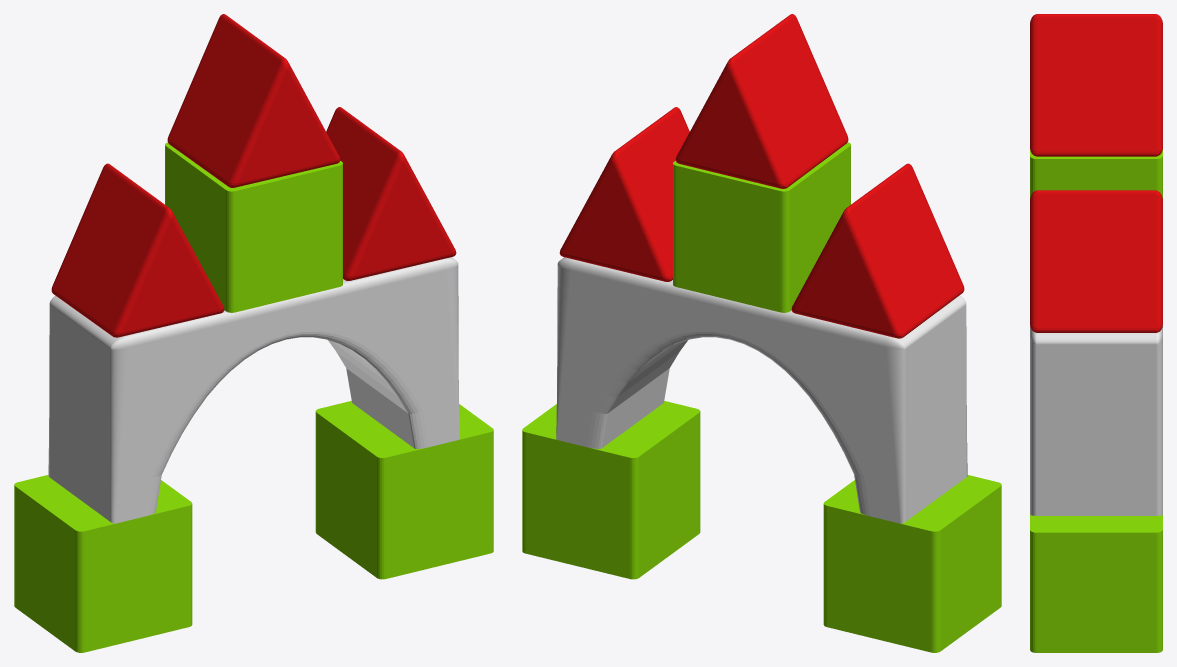
Rendered from Toy_Castle.fbx.
3 views of the same model, side by side, from view 1: azimuth 30°, elevation 25°; view 2: azimuth 150°, elevation 25°; view 3: azimuth 270°, elevation 25° (orthographic).
Visible parts, largest first — view 1: Cube.004; view 2: Cube.004; view 3: Cube.004.
Part boxes in pixels (x1,y1,x2,y2): Cube.004: [14, 14, 493, 652]; Cube.004: [522, 14, 1001, 652]; Cube.004: [1030, 14, 1162, 652].
Bounding box in the file's own units: 7.2 × 8.94 × 2.
